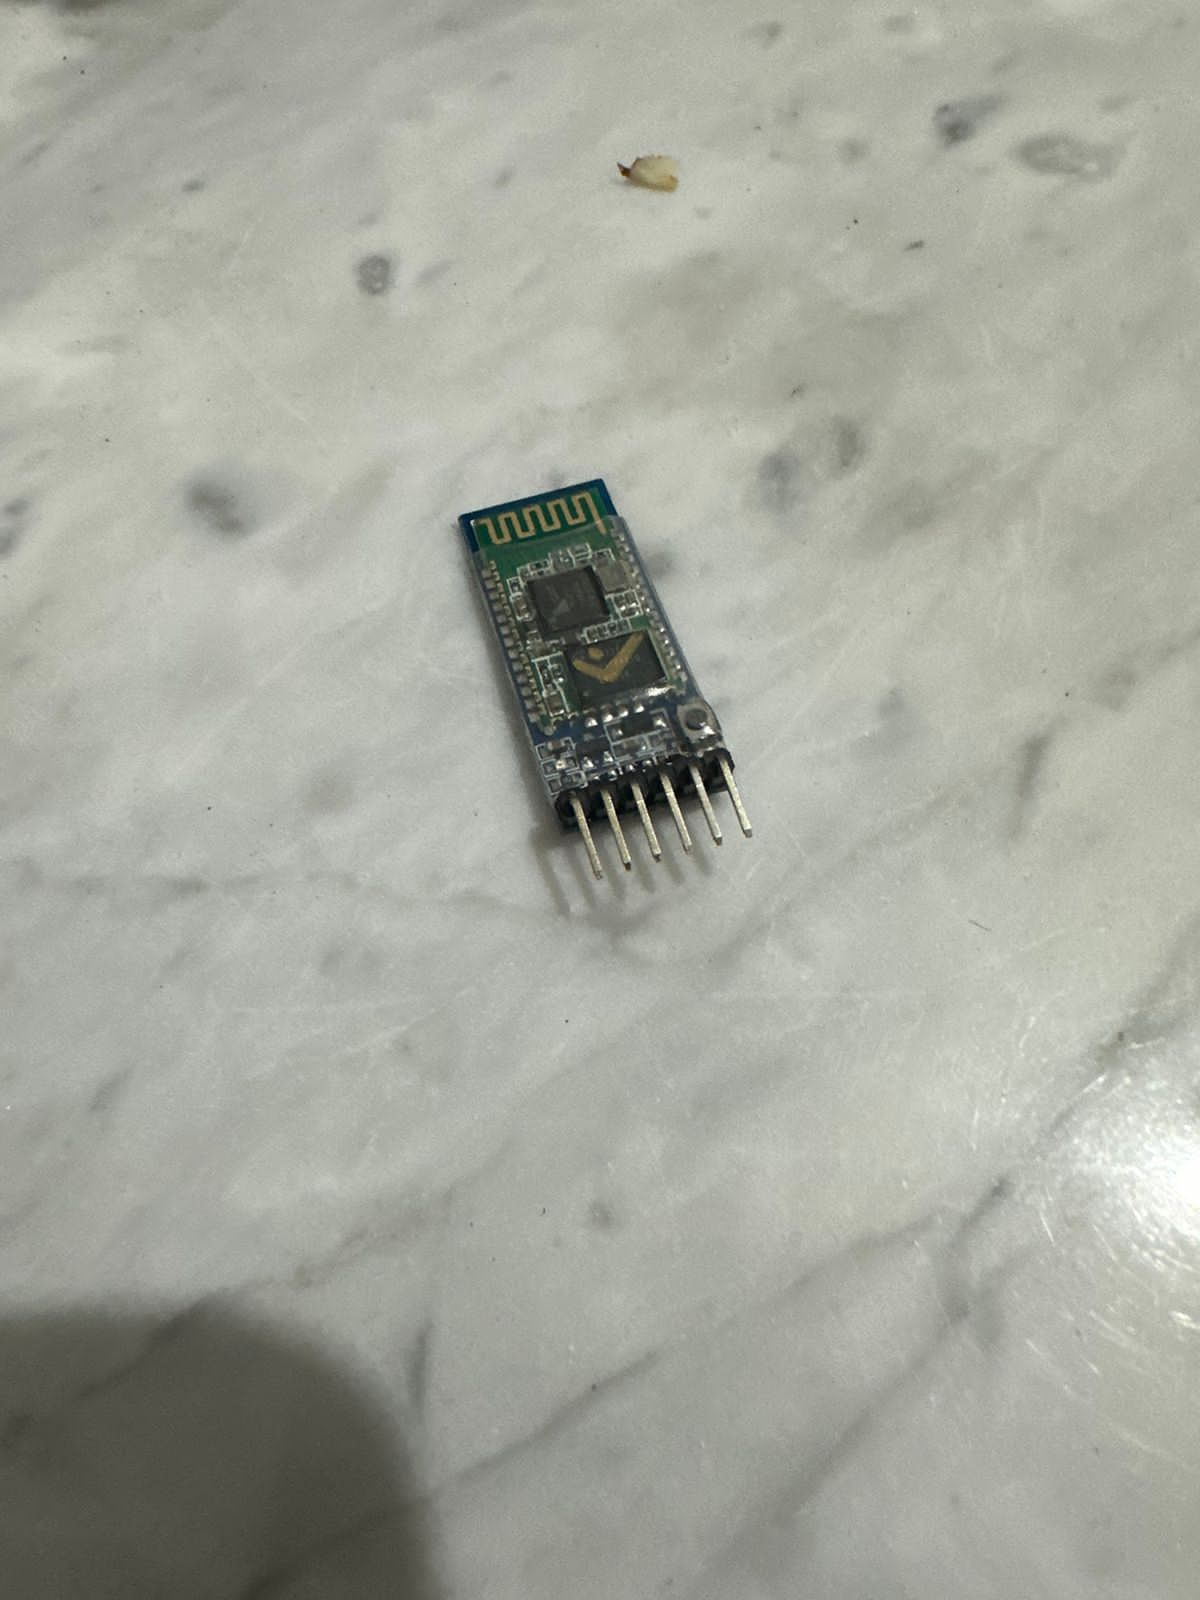module-bluetooth: (444, 474, 770, 900)
